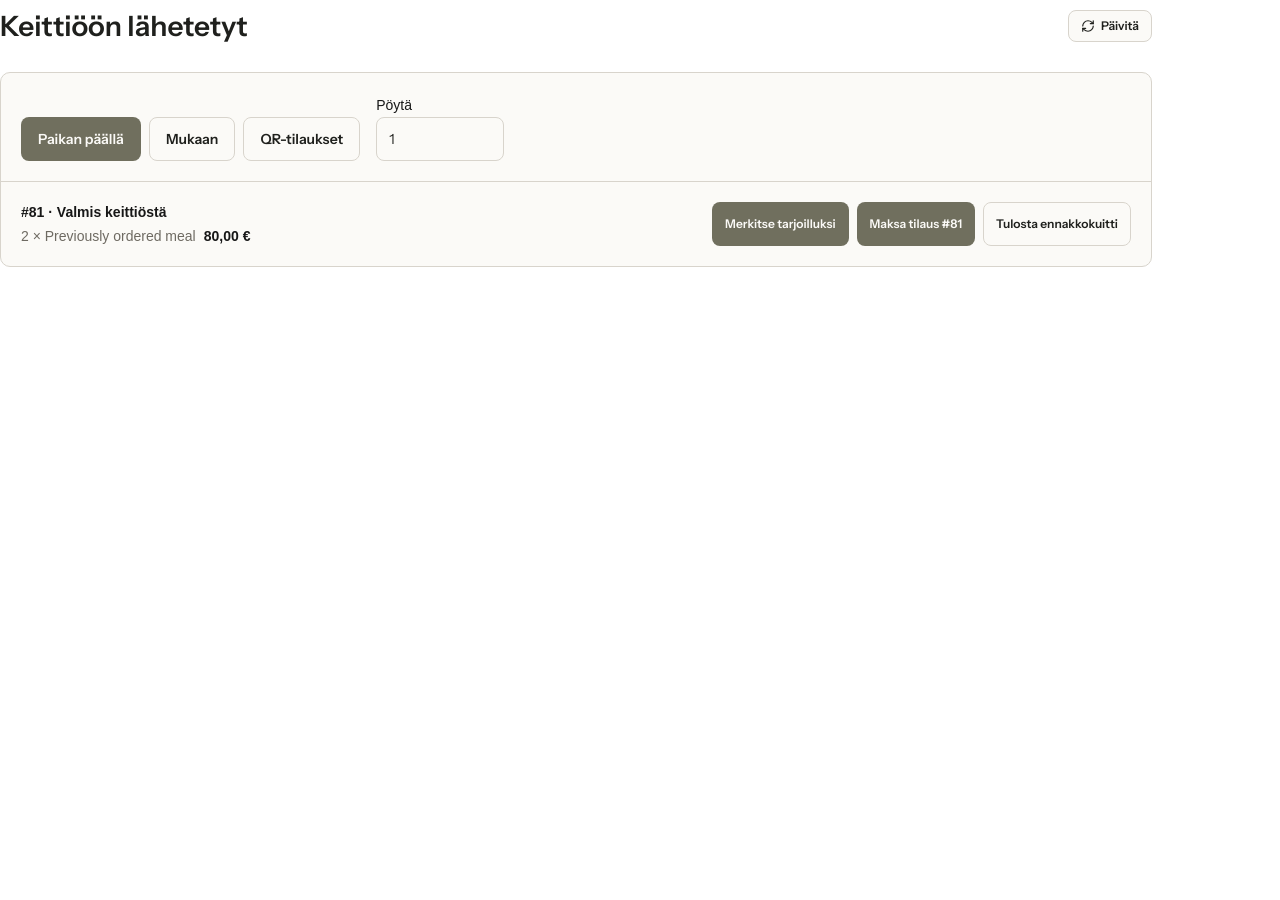
POS safety net › reloads a Counter order after serving conflicts from the detail without claiming success
The width and height of the screenshot is (1280, 900).
Click the button with aria-label "Näytä tilaus #81": [112, 212] box [21, 202, 688, 246]
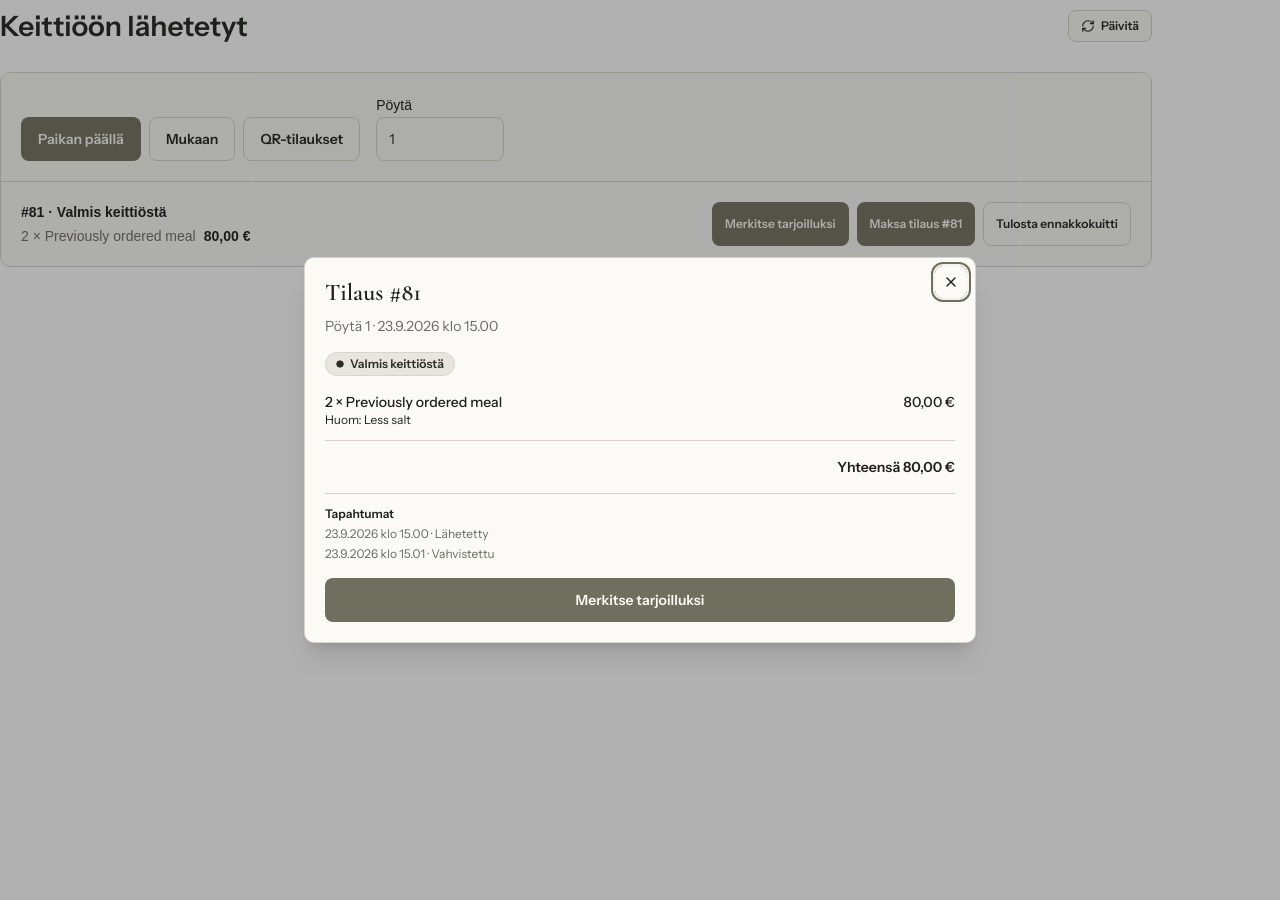
Click the button "Merkitse tarjoilluksi": [640, 600] box [325, 578, 955, 622]
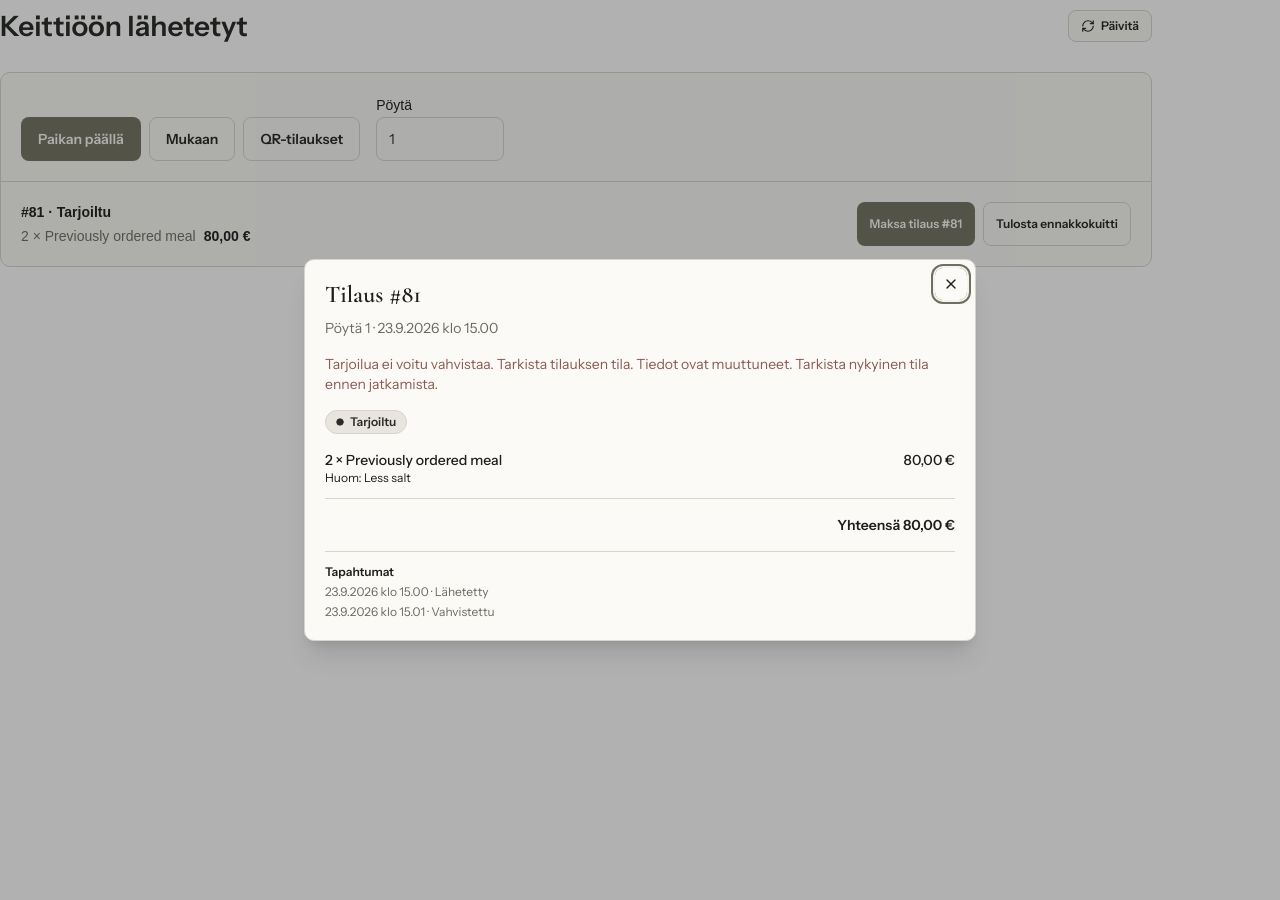
Expected: the message is shown, [325, 354, 955, 394]
Expected: the text "Tarjoiltu" is shown, [325, 410, 407, 434]
Expected: the button "Merkitse tarjoilluksi" is gone
